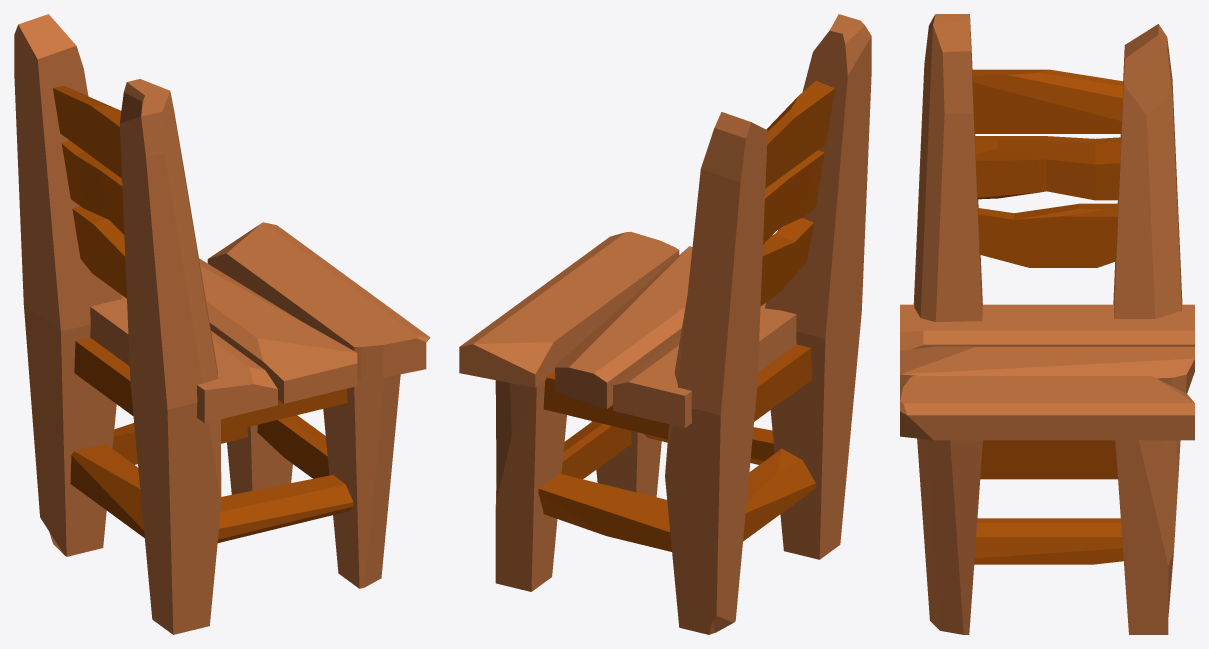
Rendered from Chair_2_White.fbx.
The picture shows the model from 3 angles, left to right: view 1: azimuth 30°, elevation 25°; view 2: azimuth 150°, elevation 25°; view 3: azimuth 270°, elevation 25°; orthographic projection. The views are drawn at different scales.
Parts seen in each view (by area): view 1: Cube.211, Cube.210, Cube.239, Cube.213, Cube.238, Cube.237, Cube.217, Cube.216, Cube.235, Cube.234, Cube.236, Cube.212 (+4 smaller); view 2: Cube.210, Cube.211, Cube.239, Cube.212, Cube.238, Cube.218, Cube.237, Cube.235, Cube.216, Cube.234, Cube.236, Cube.213 (+4 smaller); view 3: Cube.239, Cube.211, Cube.210, Cube.237, Cube.212, Cube.213, Cube.235, Cube.238, Cube.234, Cube.236, Cube.215, Cube.216 (+1 smaller).
Boxes of the visible parts, left/top/right/bottom form: Cube.211: left=119, top=79, right=221, bottom=634; Cube.210: left=14, top=14, right=121, bottom=556; Cube.239: left=207, top=222, right=430, bottom=379; Cube.213: left=323, top=374, right=400, bottom=588; Cube.238: left=199, top=258, right=357, bottom=403; Cube.237: left=90, top=295, right=277, bottom=423; Cube.217: left=217, top=475, right=353, bottom=542; Cube.216: left=70, top=443, right=144, bottom=537; Cube.235: left=53, top=86, right=121, bottom=178; Cube.234: left=61, top=140, right=124, bottom=234; Cube.236: left=72, top=206, right=126, bottom=298; Cube.212: left=227, top=425, right=292, bottom=494; Cube.210: left=665, top=112, right=767, bottom=634; Cube.211: left=765, top=14, right=871, bottom=559; Cube.239: left=459, top=231, right=679, bottom=387; Cube.212: left=495, top=380, right=566, bottom=591; Cube.238: left=555, top=246, right=692, bottom=408; Cube.218: left=538, top=473, right=671, bottom=551; Cube.237: left=613, top=303, right=796, bottom=427; Cube.235: left=765, top=81, right=834, bottom=188; Cube.216: left=743, top=448, right=815, bottom=541; Cube.234: left=763, top=150, right=824, bottom=244; Cube.236: left=760, top=218, right=813, bottom=305; Cube.213: left=591, top=421, right=661, bottom=497; Cube.239: left=900, top=376, right=1194, bottom=440; Cube.211: left=913, top=14, right=982, bottom=321; Cube.210: left=1113, top=24, right=1182, bottom=318; Cube.237: left=900, top=304, right=1194, bottom=350; Cube.212: left=1115, top=440, right=1180, bottom=634; Cube.213: left=917, top=438, right=982, bottom=634; Cube.235: left=972, top=69, right=1123, bottom=133; Cube.238: left=900, top=346, right=1194, bottom=400; Cube.234: left=975, top=136, right=1120, bottom=200; Cube.236: left=978, top=203, right=1118, bottom=267; Cube.215: left=974, top=518, right=1123, bottom=564; Cube.216: left=980, top=458, right=1117, bottom=479.
Size of the model in its own units: 235 by 438 by 231.
